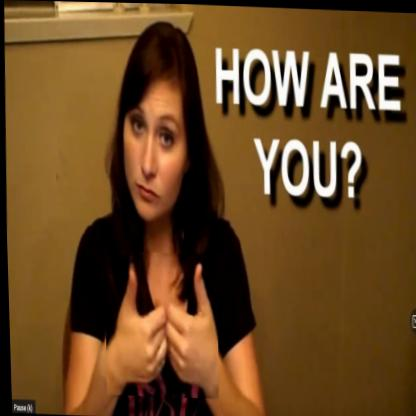HowAreYou: (101, 250, 218, 398)
